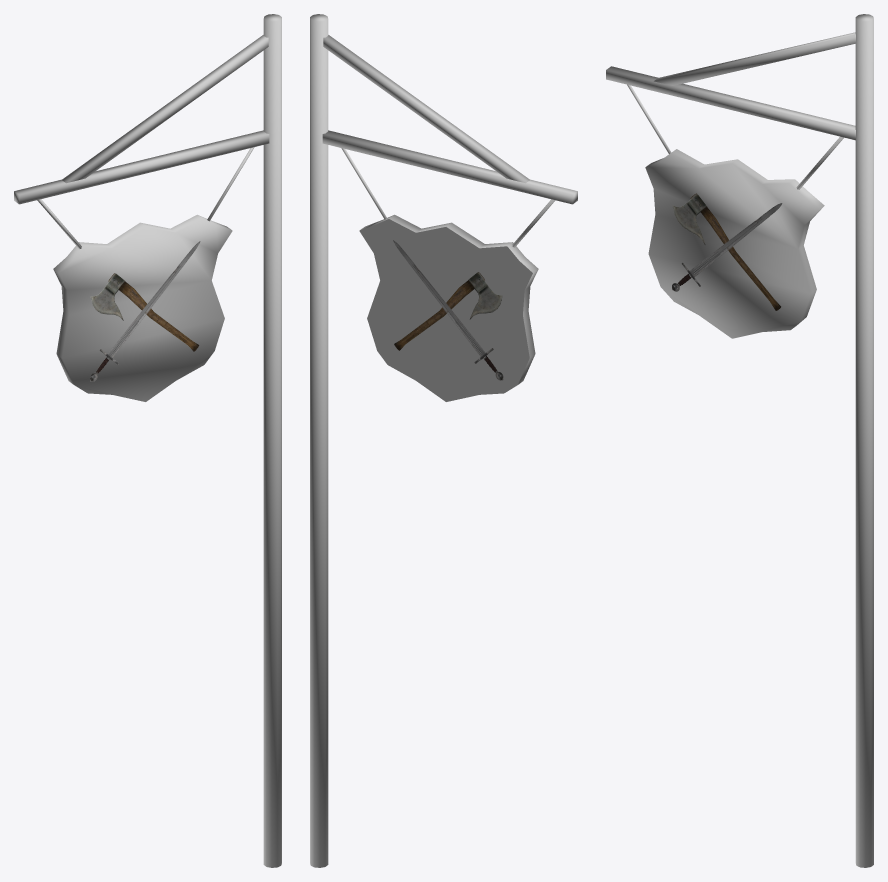
File: sign3.fbx
3 views of the same model, side by side, from view 1: azimuth 30°, elevation 25°; view 2: azimuth 150°, elevation 25°; view 3: azimuth 330°, elevation 25° (orthographic).
Parts seen in each view (by area): view 1: wood3, wood2, sign3, fabric1; view 2: wood3, wood2, sign3, fabric1; view 3: wood2, wood3, sign3, fabric1.
Boxes of the visible parts, <box> form: wood3: <box>14,14,281,867</box>; wood2: <box>53,214,232,401</box>; sign3: <box>90,241,200,381</box>; fabric1: <box>37,147,254,249</box>; wood3: <box>310,14,577,867</box>; wood2: <box>359,214,538,401</box>; sign3: <box>393,240,503,380</box>; fabric1: <box>341,148,555,247</box>; wood2: <box>645,149,824,338</box>; wood3: <box>606,14,873,867</box>; sign3: <box>672,193,782,310</box>; fabric1: <box>627,84,843,189</box>.
Bounding box in the file's own units: 17.15 × 52.56 × 1.09.
